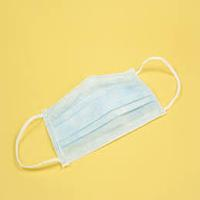flu mask: (40, 66, 169, 167)
